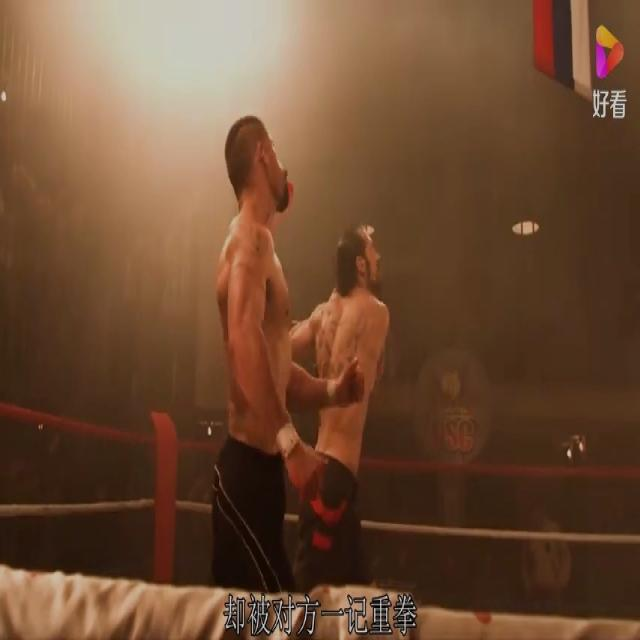fight: (208, 105, 389, 606)
